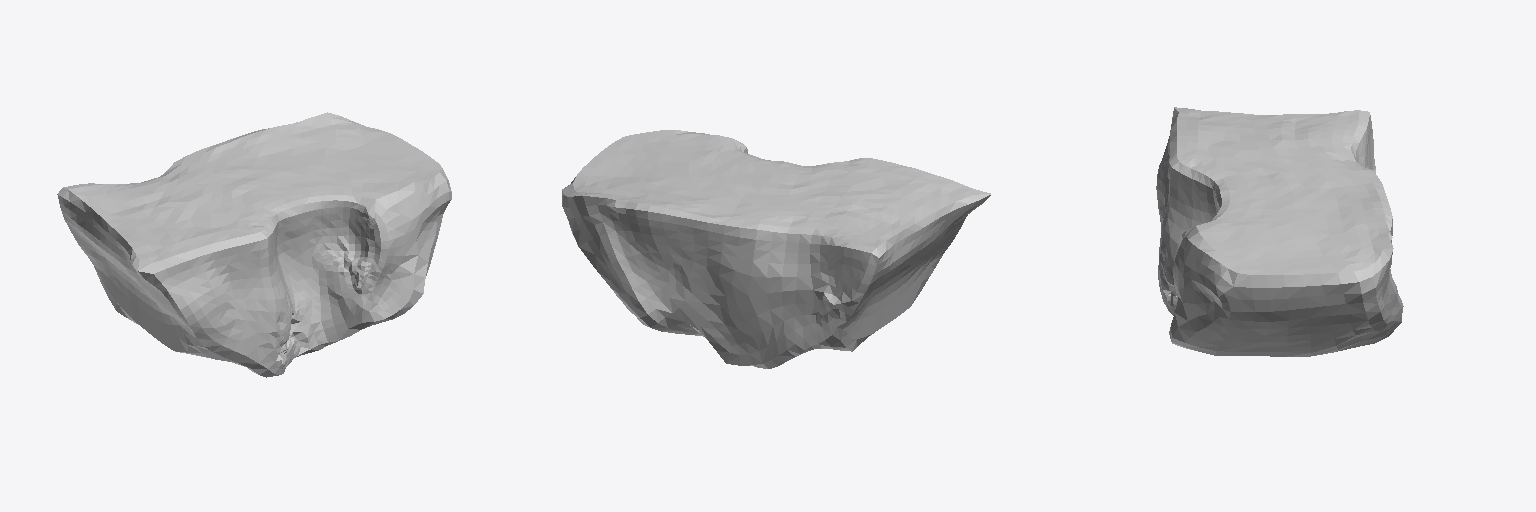
Rendered from RockPlt2.obj.
The picture shows the model from 3 angles: view 1: azimuth 30°, elevation 25°; view 2: azimuth 150°, elevation 25°; view 3: azimuth 270°, elevation 25°; orthographic projection.
Parts seen in each view (by area): view 1: Group51278; view 2: Group51278; view 3: Group51278.
Part boxes in pixels (x1,y1,x2,y2): Group51278: (57,112,451,377); Group51278: (562,130,990,368); Group51278: (1156,107,1403,356).
Bounding box in the file's own units: 7.72 × 3.19 × 4.83.